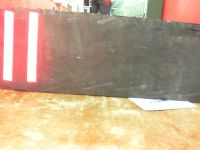switch: (26, 11, 38, 83), (3, 10, 14, 82)
